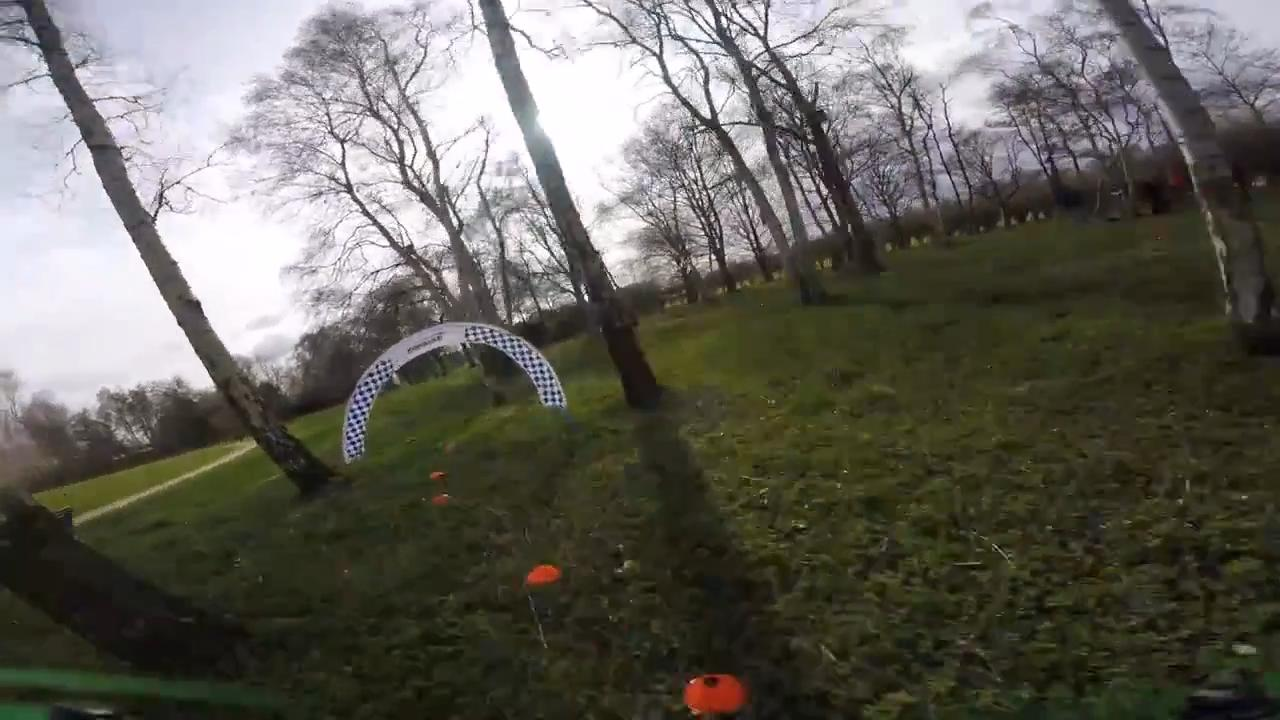gate: (338, 319, 566, 461)
